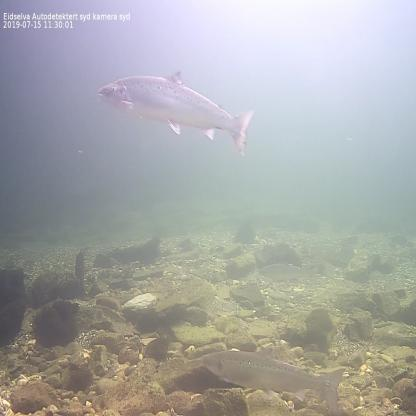salmon: (96, 66, 259, 159), (199, 341, 345, 413), (256, 260, 320, 284)
